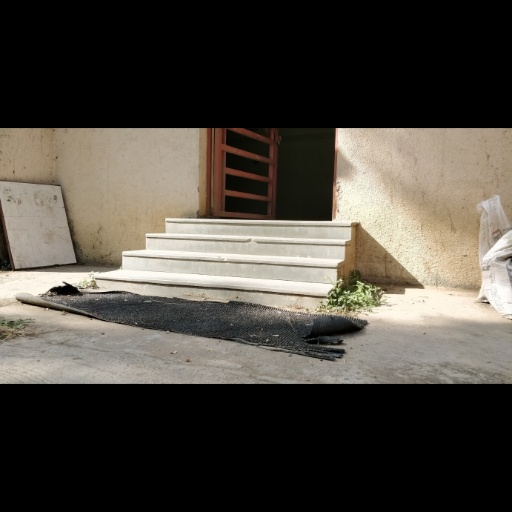Stairs: (98, 218, 358, 309)
